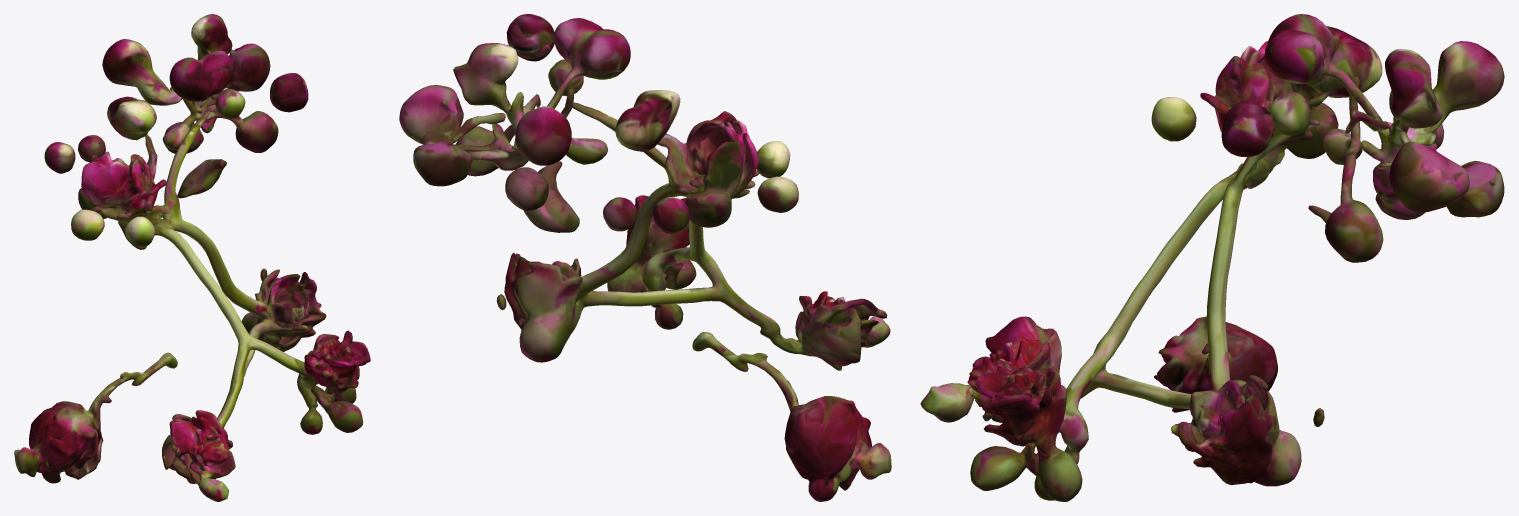
File: TREE0081.gltf
The picture shows the model from 3 angles, left to right: view 1: azimuth 30°, elevation 25°; view 2: azimuth 150°, elevation 25°; view 3: azimuth 270°, elevation 25°; orthographic projection. The views are drawn at different scales.
Visible parts, largest first — view 1: Mesh_0.059; view 2: Mesh_0.059; view 3: Mesh_0.059.
Boxes of the visible parts, <box> form: Mesh_0.059: <box>14,14,370,501</box>; Mesh_0.059: <box>399,14,891,501</box>; Mesh_0.059: <box>920,14,1504,501</box>.
Bounding box in the file's own units: 1.85 × 1.98 × 2.
1 material, 1 textured.
